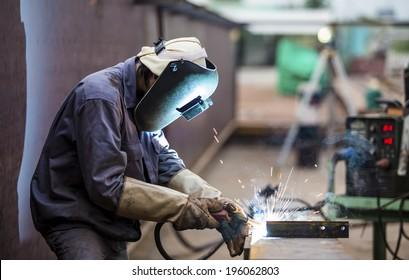gloves: (168, 168, 248, 256), (116, 175, 239, 229)
